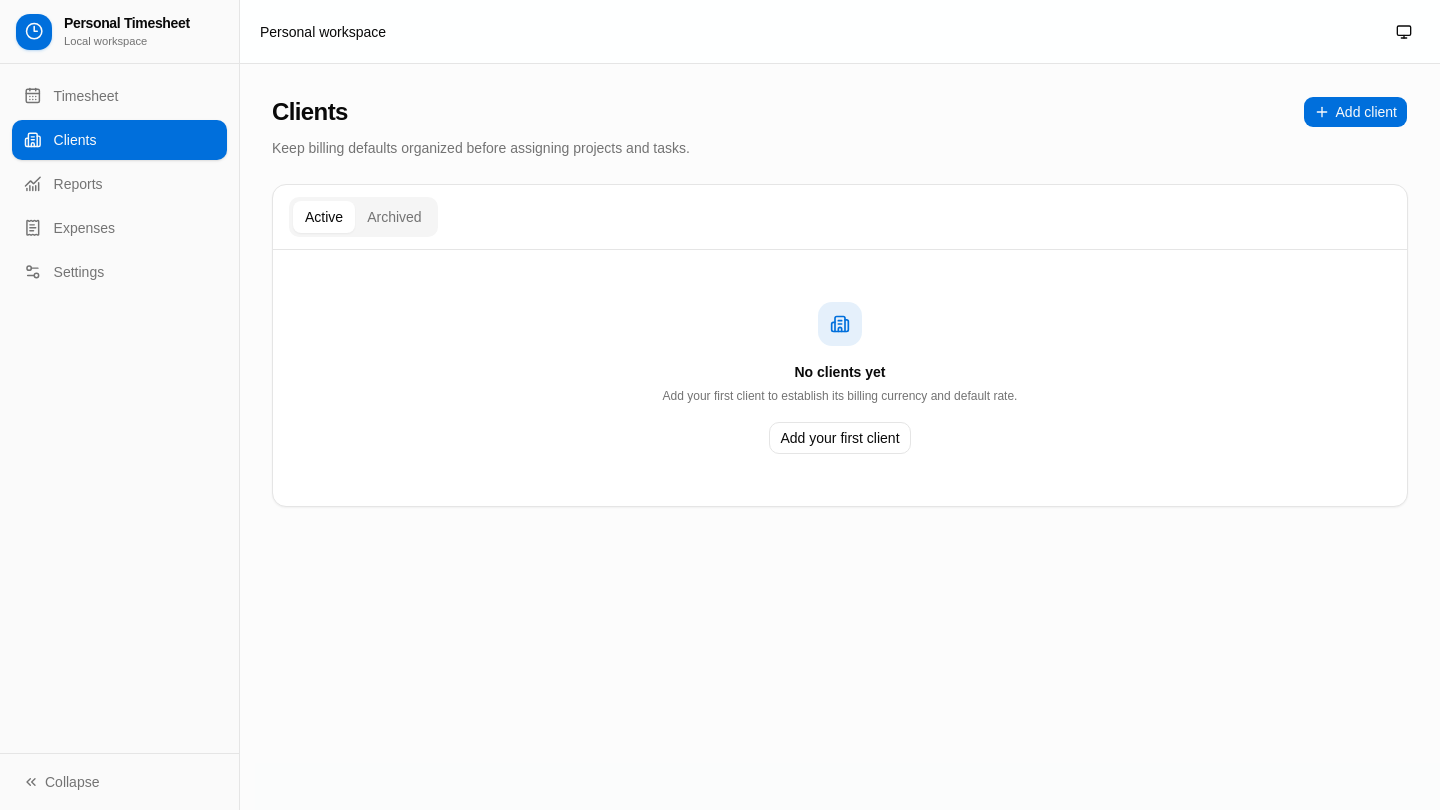
Test: application shell › navigates from an archived Client into its retained Project workspace
Click the button "Archived" at (394, 217), box [355,201,434,233]
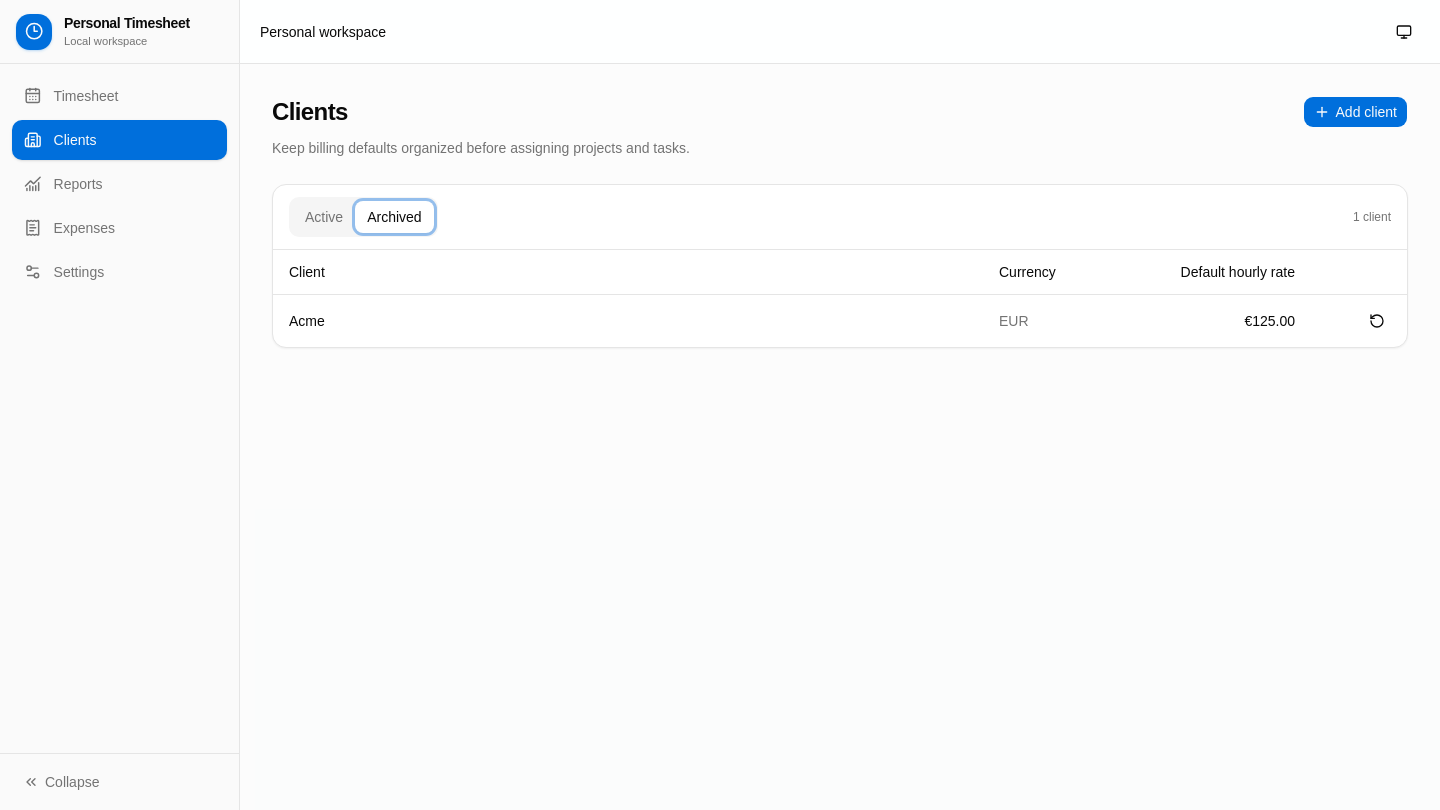
Click the link "Acme" at (307, 320), box [289,312,325,328]
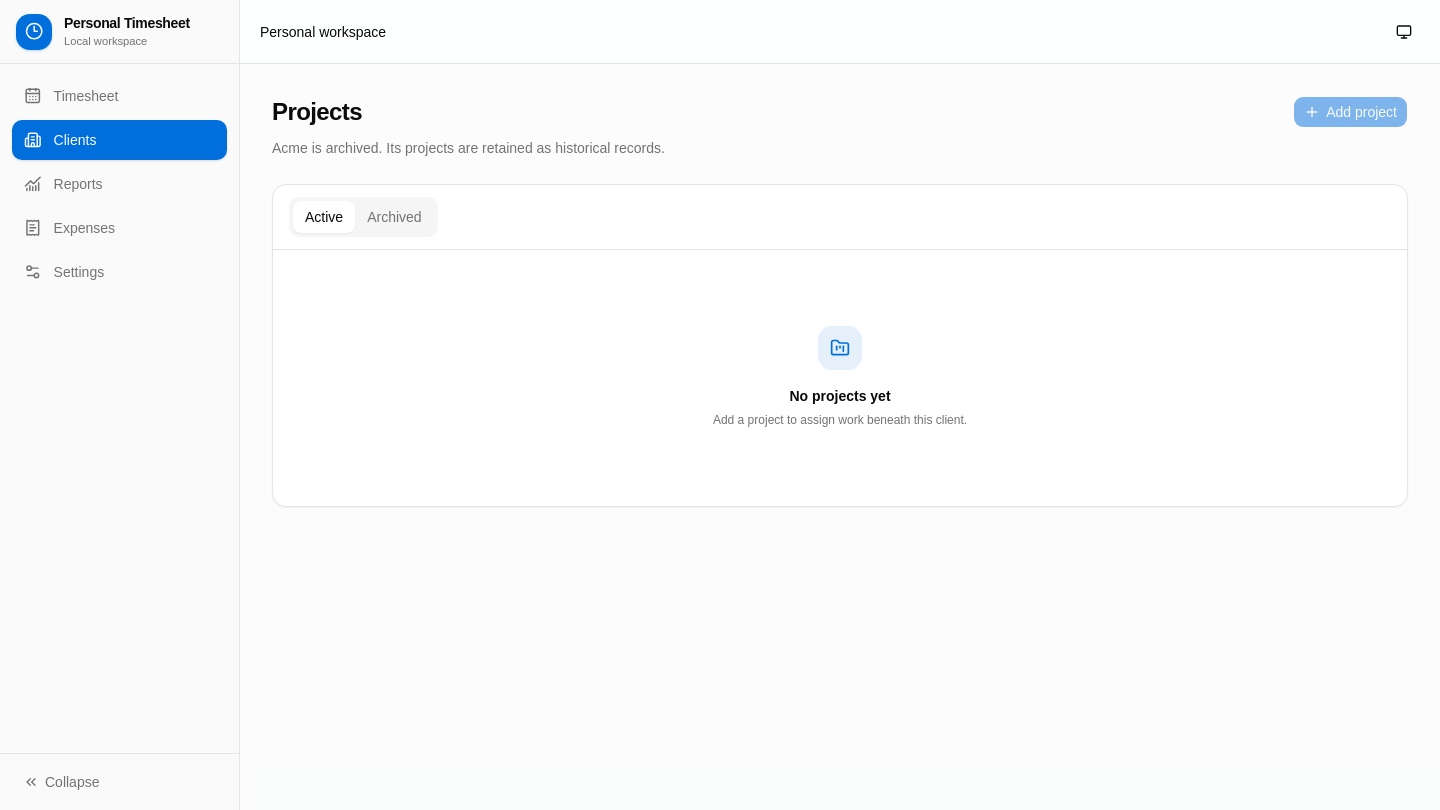
expect the heading "Projects" is shown: met, box [272,98,362,125]
expect the text "Acme is archived" is shown: met, box [272,140,665,156]
